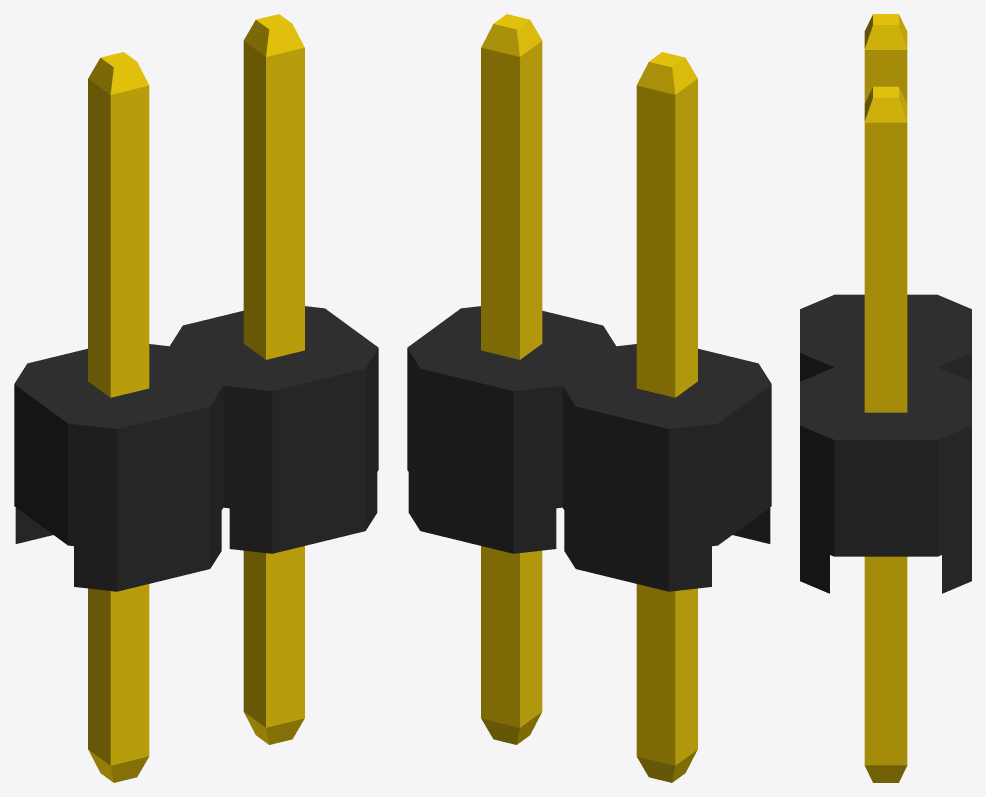
File: PLS2-2.glb
The picture shows the model from 3 angles, left to right: view 1: azimuth 30°, elevation 25°; view 2: azimuth 150°, elevation 25°; view 3: azimuth 270°, elevation 25°; orthographic projection. The views are drawn at different scales.
Visible parts, largest first — view 1: PLS2 (DS1025-01 CONNFLY); view 2: PLS2 (DS1025-01 CONNFLY); view 3: PLS2 (DS1025-01 CONNFLY).
Part boxes in pixels (box(x1,y1,x2,y2)): PLS2 (DS1025-01 CONNFLY): box(14, 14, 378, 782); PLS2 (DS1025-01 CONNFLY): box(407, 14, 771, 782); PLS2 (DS1025-01 CONNFLY): box(800, 14, 971, 782).
Size of the model in its own units: 0.004 by 0.0088 by 0.002.
